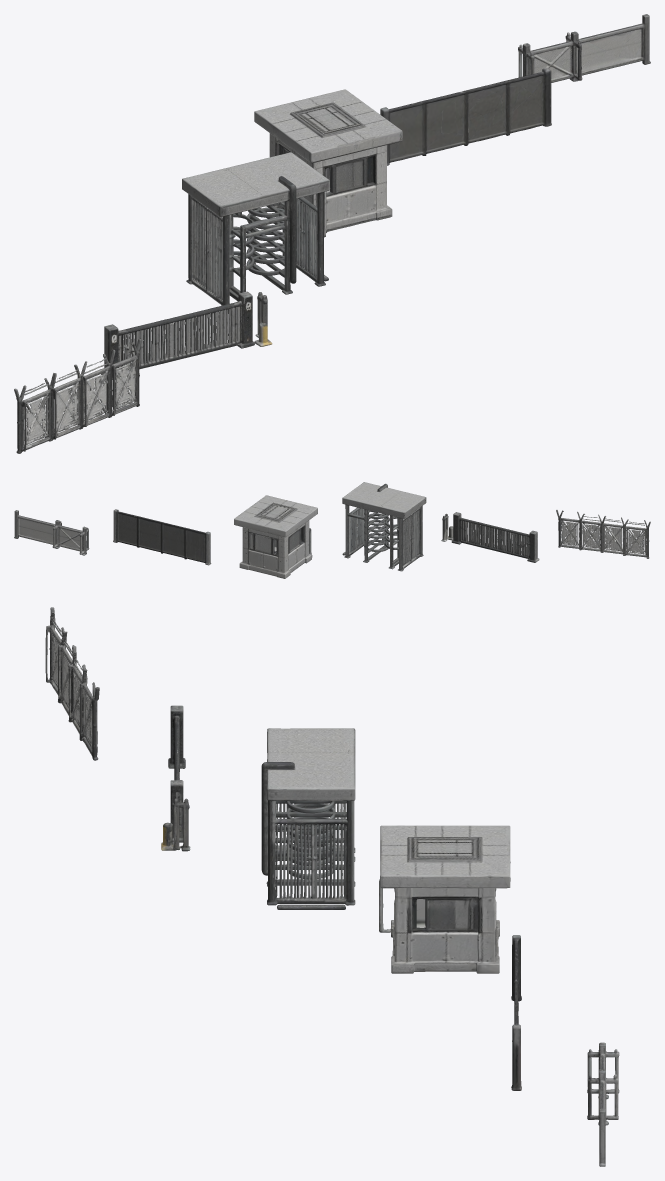
File: security_5.runtime.glb
3 renders of one model, top to bottom at view 1: azimuth 30°, elevation 25°; view 2: azimuth 150°, elevation 25°; view 3: azimuth 270°, elevation 25°, orthographic. The views are drawn at different scales.
Bounding box in the file's own units: 1.9 × 0.2296 × 0.9476.
1 material, 1 textured.
